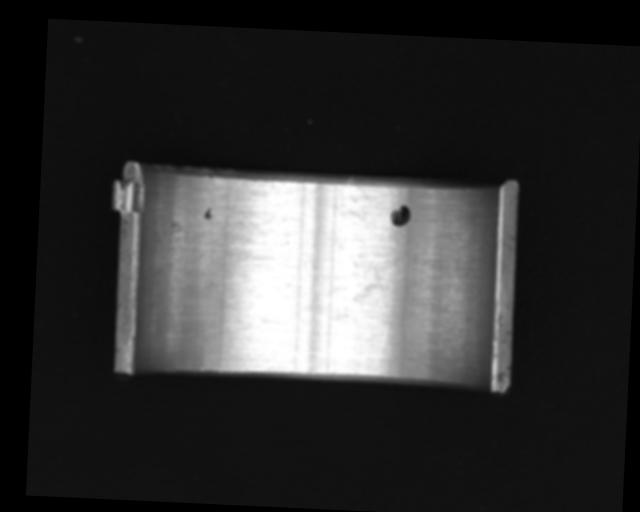blot: (350, 254, 403, 311), (389, 203, 411, 227)
bruise: (202, 206, 213, 222)
nick: (371, 325, 389, 371)
